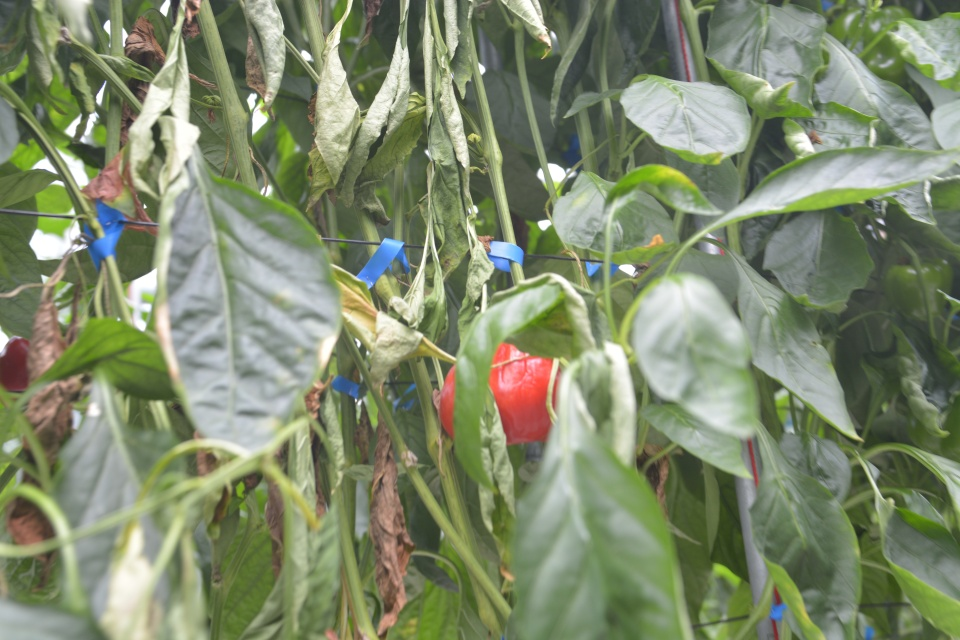fruit: (436, 339, 564, 447), (0, 333, 35, 394)
